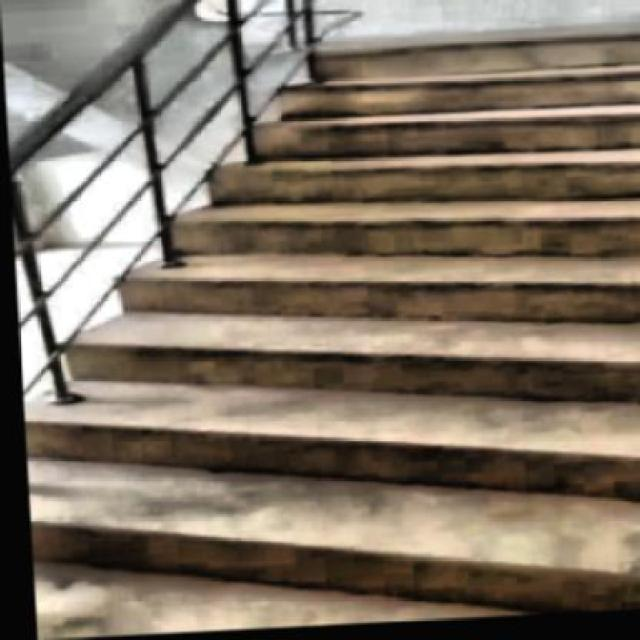stair: (4, 34, 638, 638)
